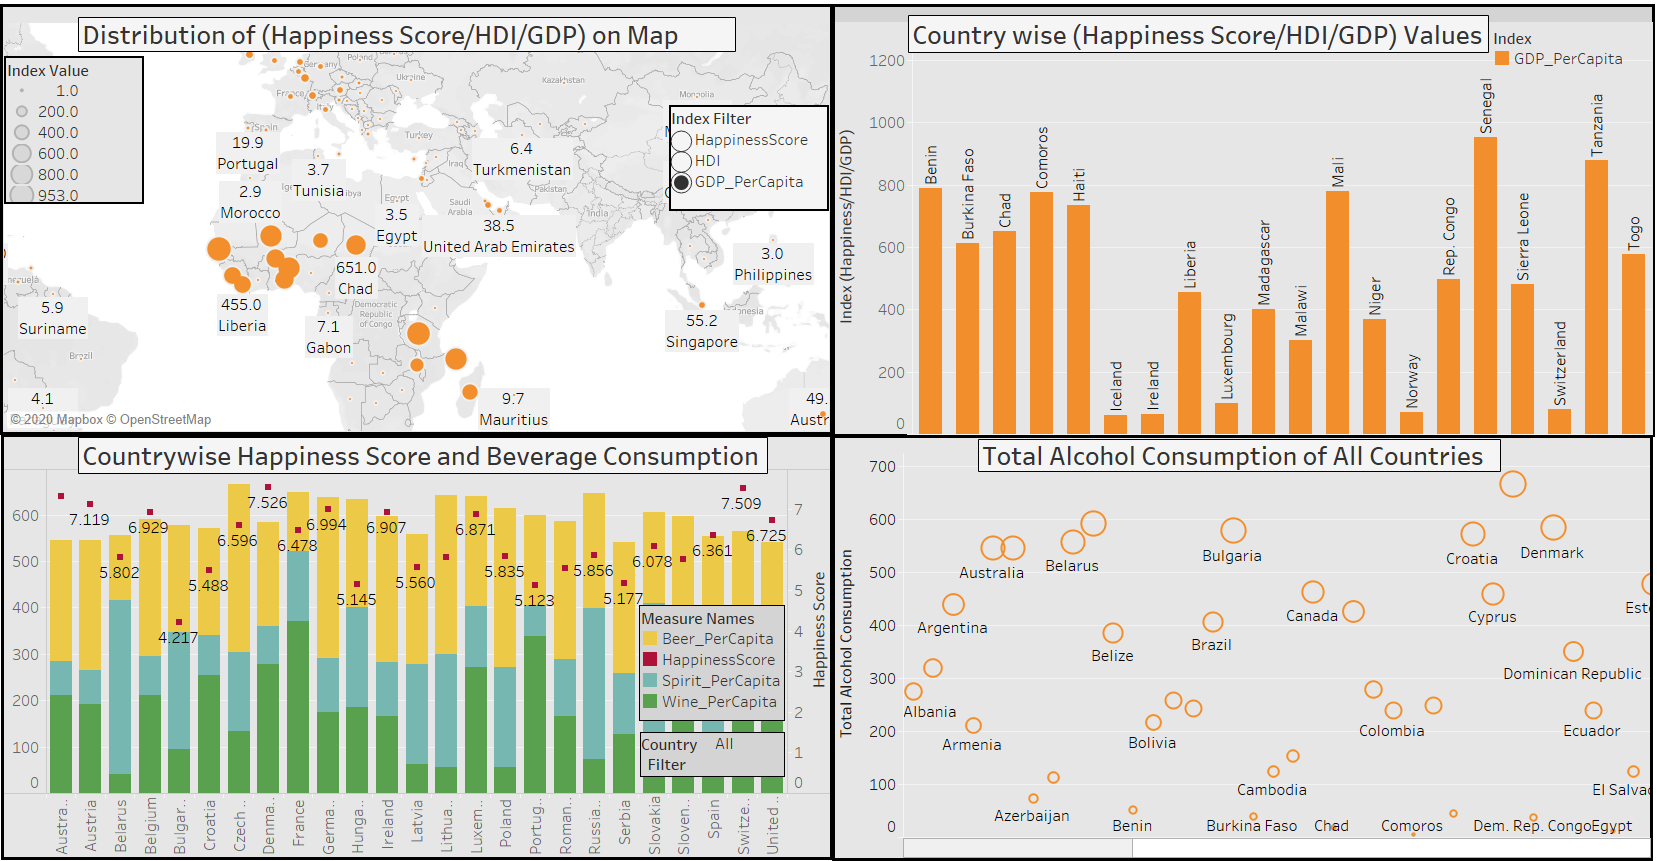

This screenshot's page, from the dashboard's own definition file:
{"tool":"tableau","page":{"name":"Dashboard2 – Exploratory Analysis","canvas":[1000,1000],"units":"permille","ordinal":1},"visuals":[{"type":"worksheet","title":"World Map: Distribution of (Happiness Score/HDI/GDP)","mark":"Circle","box":[0,4.7,502.7,500.6]},{"type":"worksheet","title":"Bar Graph: Country wise (Happiness Score/HDI/GDP) Values","mark":"Bar","rows":["Calculation_1736137695866429443"],"cols":["Country"],"box":[502.1,4.7,496.7,502.9]},{"type":"text","box":[548,17.4,350.6,44.1]},{"type":"text","box":[47.1,19.7,397.1,40.6]},{"type":"legend","title":"Bar Graph: Country wise (Happiness Score/HDI/GDP) Values","param":"[Parameters].[Parameter 2]","box":[900.4,30.2,96,76.7]},{"type":"legend","title":"World Map: Distribution of (Happiness Score/HDI/GDP)","param":"[federated.1u3rmxw171csfc180qds41c1lcia].[usr:Calculation_1736137695866429443:qk","box":[2.4,65,84.5,171.9]},{"type":"parameter","param":"[Parameters].[Parameter 2]","box":[403.7,122,96.6,123.1]},{"type":"worksheet","title":"Stacked Bar plot (Beverages consumption) and dot plot (Happiness Score)","mark":"Bar","rows":["HappinessScore"],"cols":["Country"],"box":[0.6,504.1,502.1,494.8]},{"type":"worksheet","title":"Scatter Plot: Total Alcohol Consumption of All Countries","mark":"Shape","rows":["Total Alcohol Consumption"],"cols":["Country"],"box":[502.1,505.2,495.5,494.8]},{"type":"text","box":[47.4,507.6,415.9,43]},{"type":"text","box":[590.2,509.9,315.7,38.3]},{"type":"legend","title":"Stacked Bar plot (Beverages consumption) and dot plot (Happiness Score)","param":"[federated.1u3rmxw171csfc180qds41c1lcia].[:Measure Names]","box":[385.6,702.7,88,134.7]},{"type":"filter","title":"Stacked Bar plot (Beverages consumption) and dot plot (Happiness Score)","param":"[federated.1u3rmxw171csfc180qds41c1lcia].[none:Country:nk]","box":[386.2,850.2,87.4,52.3]}]}

Visuals, with their boxes on the dashboard's canvas, which has no fixed pixel size, in thousandths of its width and height (x1, y1, x2, y2). These are canvas units, not pixel positions in the 1657x861 screenshot, which may show the page scaled, cropped or inside an application window:
"World Map: Distribution of (Happiness Score/HDI/GDP)" worksheet (Circle marks): left=0, top=5, right=503, bottom=505
"Bar Graph: Country wise (Happiness Score/HDI/GDP) Values" worksheet (Bar marks): left=502, top=5, right=999, bottom=508
text: left=548, top=17, right=899, bottom=62
text: left=47, top=20, right=444, bottom=60
"Bar Graph: Country wise (Happiness Score/HDI/GDP) Values" legend: left=900, top=30, right=996, bottom=107
"World Map: Distribution of (Happiness Score/HDI/GDP)" legend: left=2, top=65, right=87, bottom=237
parameter: left=404, top=122, right=500, bottom=245
"Stacked Bar plot (Beverages consumption) and dot plot (Happiness Score)" worksheet (Bar marks): left=1, top=504, right=503, bottom=999
"Scatter Plot: Total Alcohol Consumption of All Countries" worksheet (Shape marks): left=502, top=505, right=998, bottom=1000
text: left=47, top=508, right=463, bottom=551
text: left=590, top=510, right=906, bottom=548
"Stacked Bar plot (Beverages consumption) and dot plot (Happiness Score)" legend: left=386, top=703, right=474, bottom=837
"Stacked Bar plot (Beverages consumption) and dot plot (Happiness Score)" filter: left=386, top=850, right=474, bottom=902
